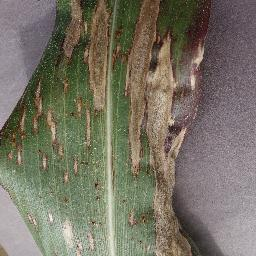Corn_Blight: (124, 1, 209, 253), (0, 78, 107, 255), (36, 0, 122, 75), (108, 108, 119, 203)
